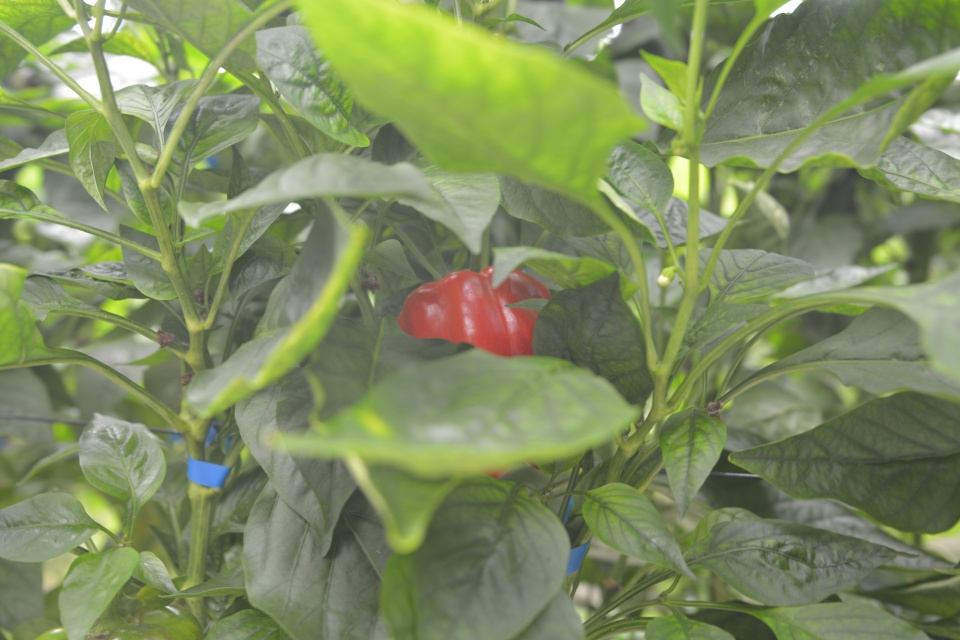fruit: (393, 263, 550, 359)
